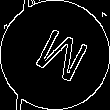M_SW: (23, 22, 87, 88)
